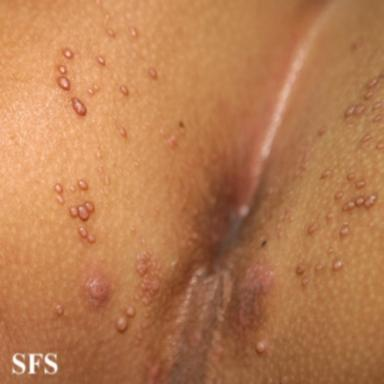Molluscum-Contagiosum: (238, 264, 275, 327), (136, 251, 160, 305), (342, 194, 377, 211), (116, 306, 136, 333), (69, 201, 95, 221), (89, 277, 108, 301), (344, 104, 365, 117), (79, 227, 96, 243), (72, 98, 87, 116), (54, 183, 65, 204), (164, 134, 178, 148), (57, 77, 71, 90), (351, 37, 363, 51), (256, 341, 266, 354), (78, 179, 89, 190), (332, 260, 343, 271), (307, 223, 318, 234), (88, 84, 99, 95), (296, 263, 306, 275), (317, 125, 327, 136), (367, 78, 378, 88), (63, 49, 73, 59), (361, 134, 372, 143), (55, 305, 64, 315), (340, 227, 350, 236), (326, 212, 336, 221), (130, 26, 138, 37), (149, 68, 157, 79), (322, 170, 331, 179), (365, 90, 374, 99), (58, 65, 67, 74), (119, 127, 127, 137), (356, 180, 365, 188), (97, 56, 105, 65), (120, 86, 128, 95), (373, 115, 383, 122), (301, 277, 309, 285), (315, 263, 323, 271), (335, 191, 343, 199), (107, 29, 115, 37), (373, 102, 382, 109), (347, 173, 355, 180), (376, 143, 384, 149), (105, 175, 110, 184), (69, 185, 75, 192), (139, 238, 145, 245), (130, 225, 136, 232)
